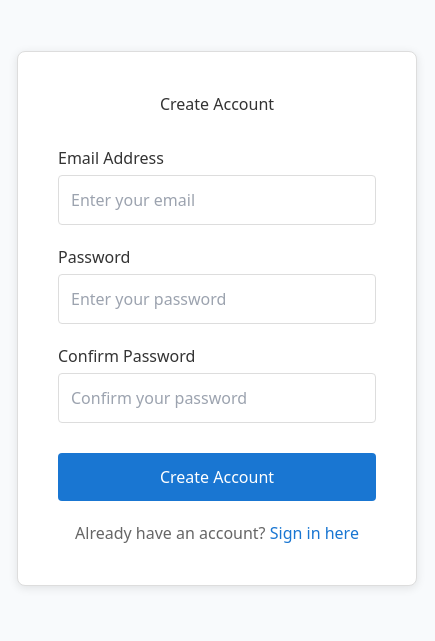
Test: SignUpPage Integration › should handle Supabase sign up errors
Check: the heading "Create Account" is shown, box [160,92,274,114]
Type "existing@example.com" into the field labelled "Email Address". click: (217,200)
box: [58,174,376,224]
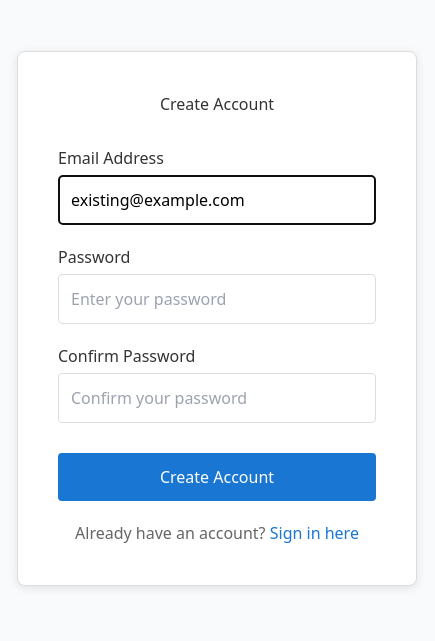
Type "Password123" into the password field labelled "Password". click: (217,298)
box: [58,274,376,324]
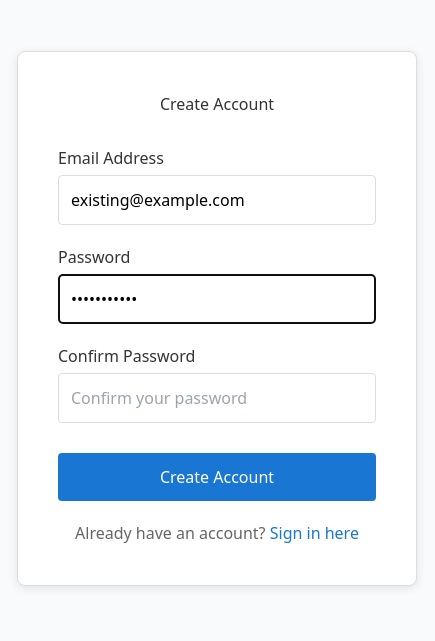
Type "Password123" into the password field labelled "Confirm Password". click: (217,398)
box: [58,372,376,422]
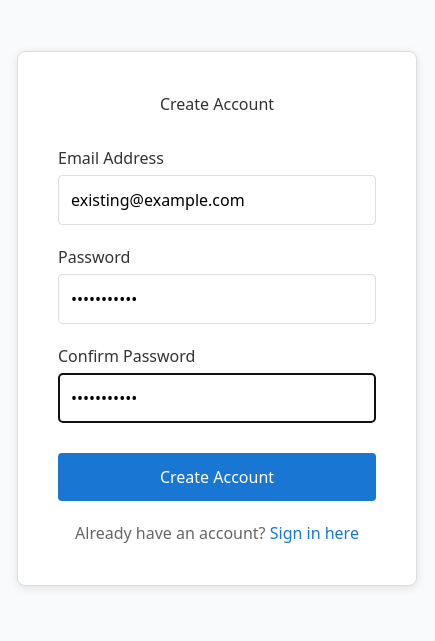
Click the button "Create Account". click: (217,476)
box: [58,452,376,500]
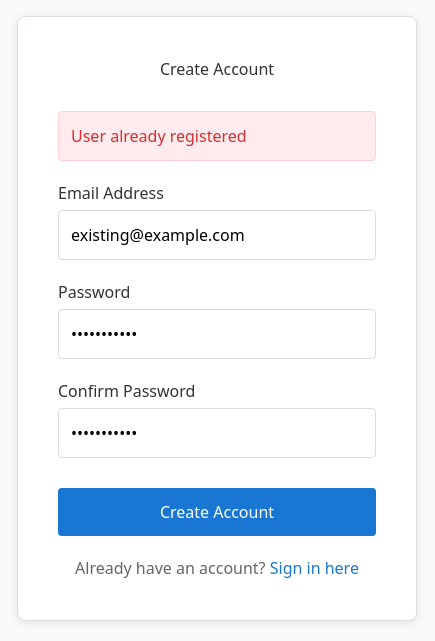
Check: the text "User already registered" is shown, box [58,110,376,160]
